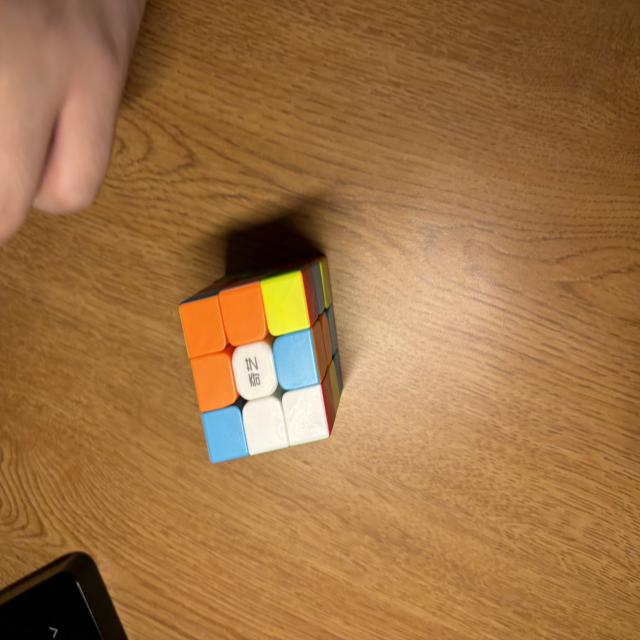Rubiks Cube: (178, 255, 343, 465)
